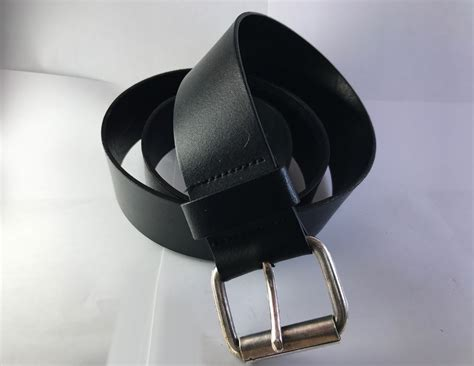cuero: (100, 11, 377, 281)
